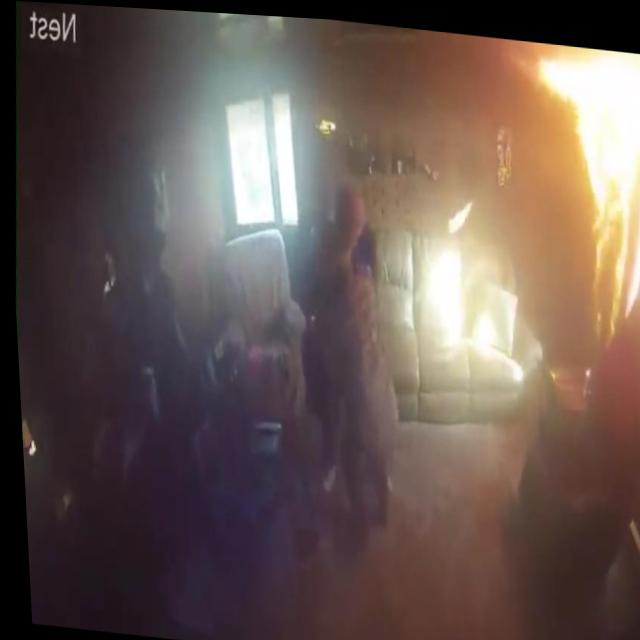fire: (516, 37, 640, 339)
